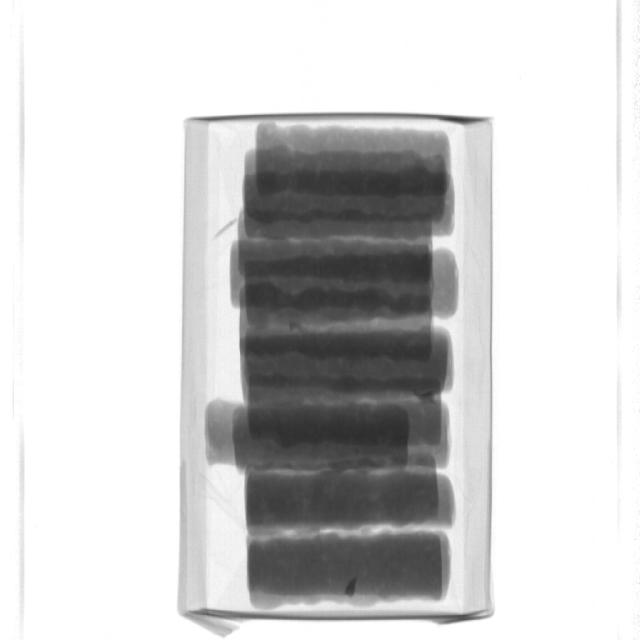ym: (214, 218, 238, 242), (414, 390, 437, 402), (345, 580, 358, 598)
